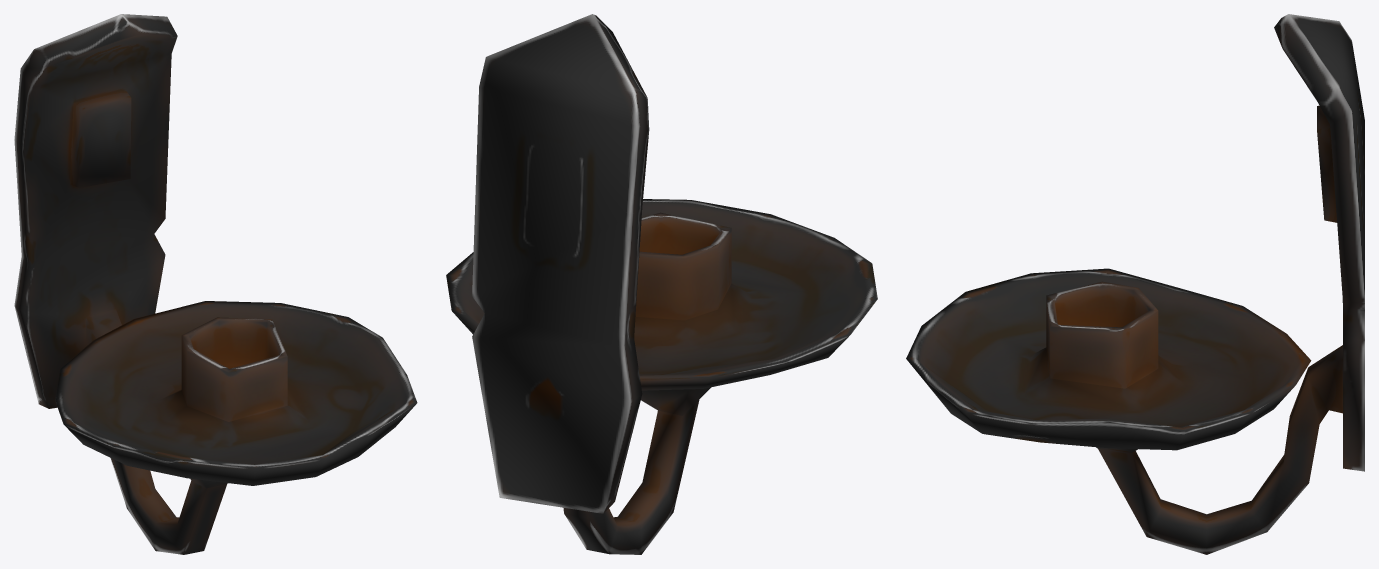
File: Sconce_B.fbx
3 renders of one model, left to right at view 1: azimuth 30°, elevation 25°; view 2: azimuth 150°, elevation 25°; view 3: azimuth 270°, elevation 25°, orthographic. The views are drawn at different scales.
Parts seen in each view (by area): view 1: U_Sconce_B; view 2: U_Sconce_B; view 3: U_Sconce_B.
Part boxes in pixels (box(x1,y1,x2,y2)): U_Sconce_B: box(14, 14, 417, 554); U_Sconce_B: box(446, 14, 877, 554); U_Sconce_B: box(906, 14, 1364, 554).
Size of the model in its own units: 68.57 by 103 by 80.7.
1 material, 1 textured.
